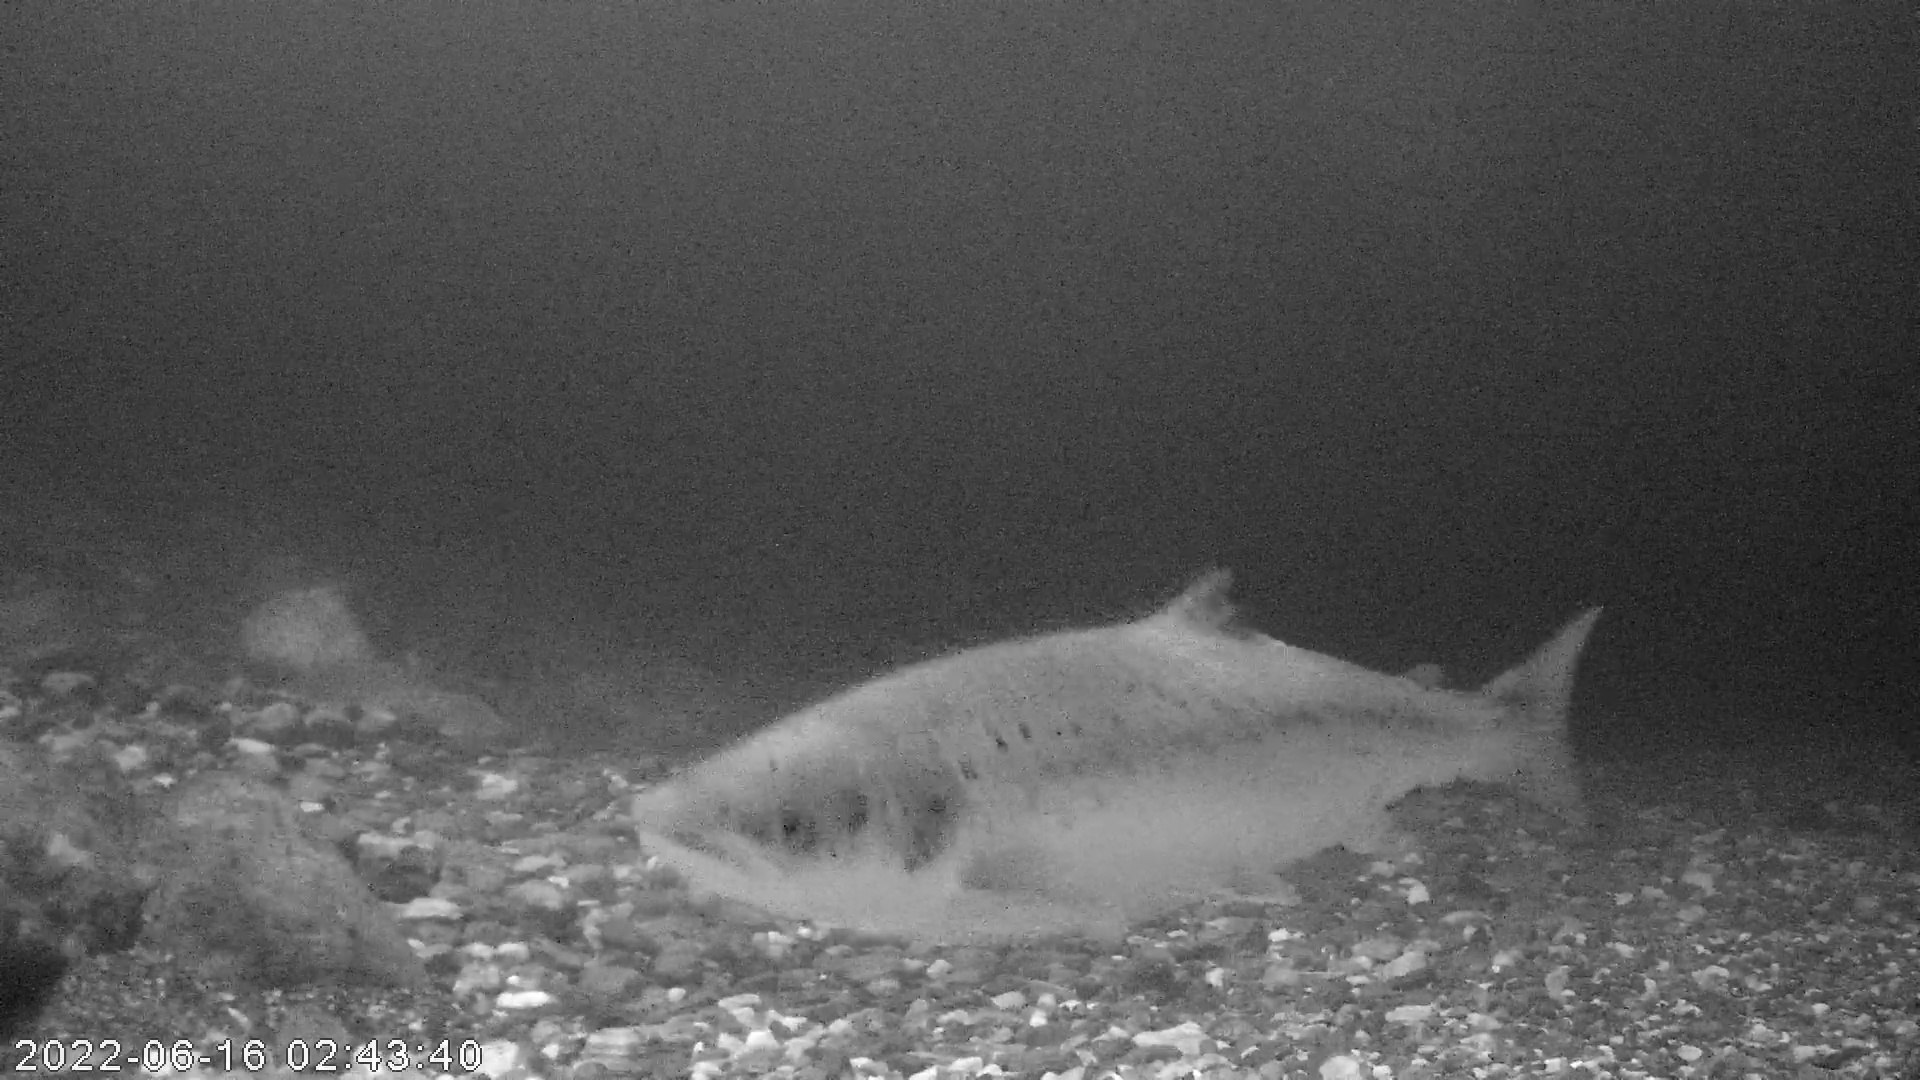salmon: (625, 564, 1607, 949)
